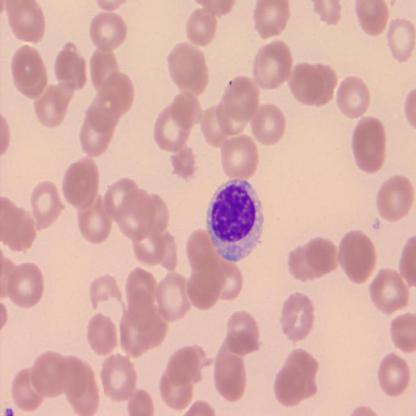Metamyelocyte: (204, 176, 266, 264)
